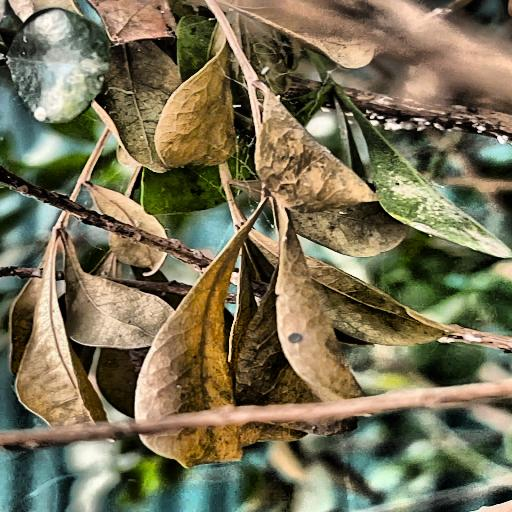la heo: (56, 90, 348, 421)
